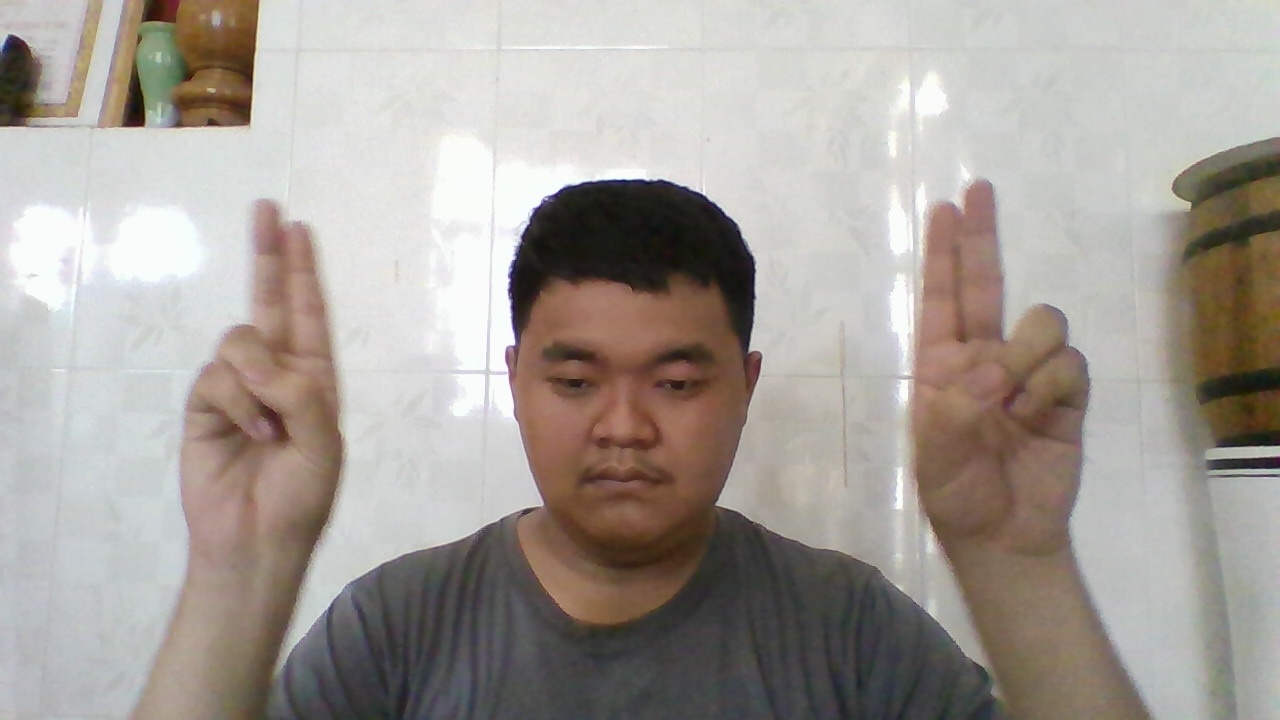U: (913, 177, 1091, 558), (188, 199, 342, 555)
